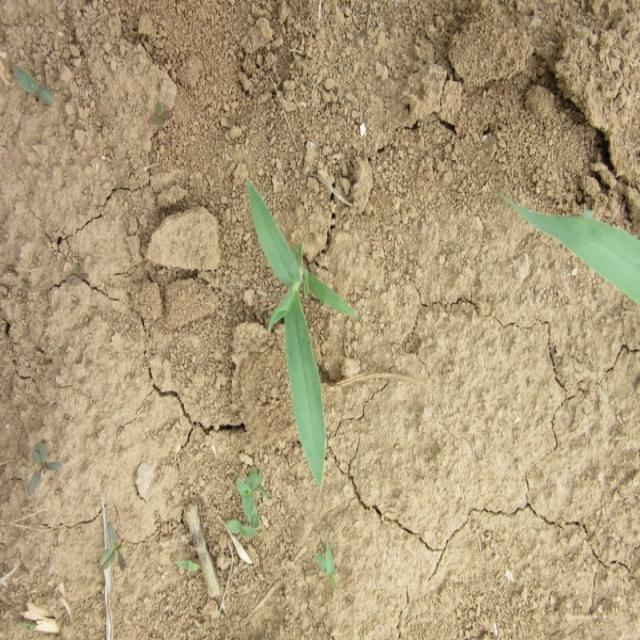bg: (245, 172, 361, 482)
